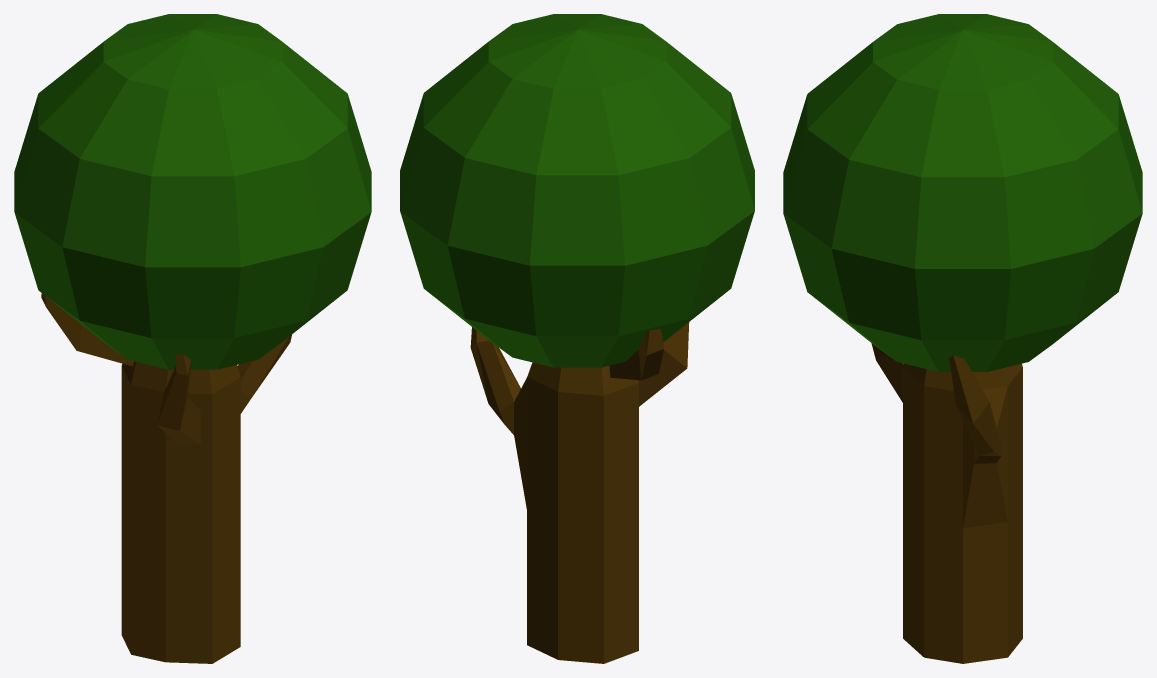
Rendered from twee_leaves.gltf.
3 views of the same model, side by side, from view 1: azimuth 30°, elevation 25°; view 2: azimuth 150°, elevation 25°; view 3: azimuth 270°, elevation 25° (orthographic).
Visible parts, largest first — view 1: sphere, cuboid; view 2: sphere, cuboid; view 3: sphere, cuboid.
Part boxes in pixels (x1=…): sphere: x1=14, y1=14, x2=371, y2=369; cuboid: x1=41, y1=293, x2=291, y2=663; sphere: x1=400, y1=14, x2=754, y2=367; cuboid: x1=470, y1=322, x2=689, y2=663; sphere: x1=783, y1=14, x2=1142, y2=371; cuboid: x1=871, y1=343, x2=1022, y2=663.
Size of the model in its own units: 0.375 by 0.7063 by 0.375.
2 materials, 2 textured.
